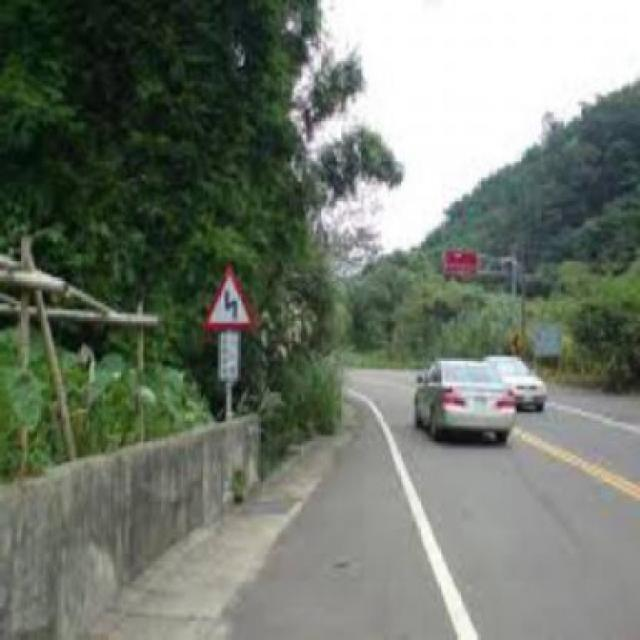left_sharp_curve: (204, 264, 259, 334)
